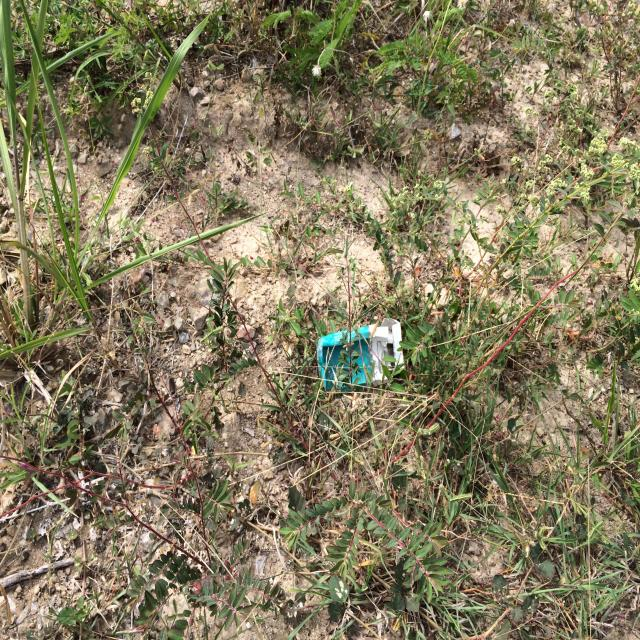litter: (316, 318, 406, 394)
